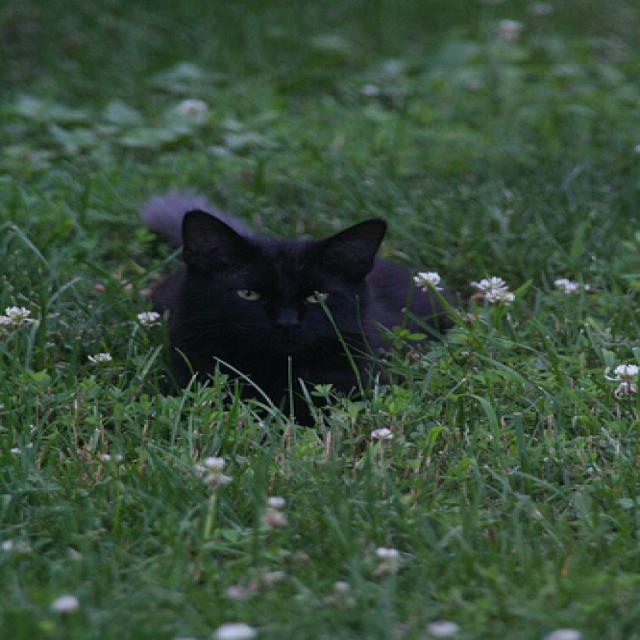cat: (138, 191, 463, 431)
